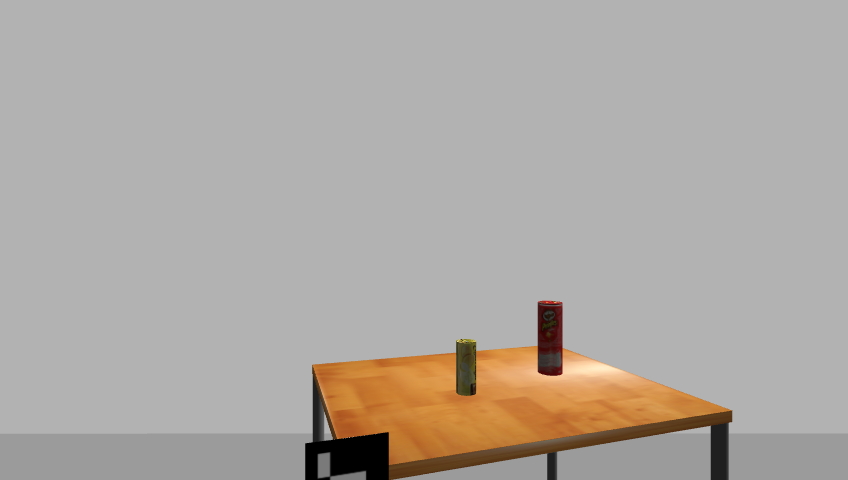aruco marker: (299, 432, 395, 480)
biscuits pack: (454, 339, 478, 397)
dinner table: (303, 344, 741, 480)
pringles can: (535, 301, 565, 378)
